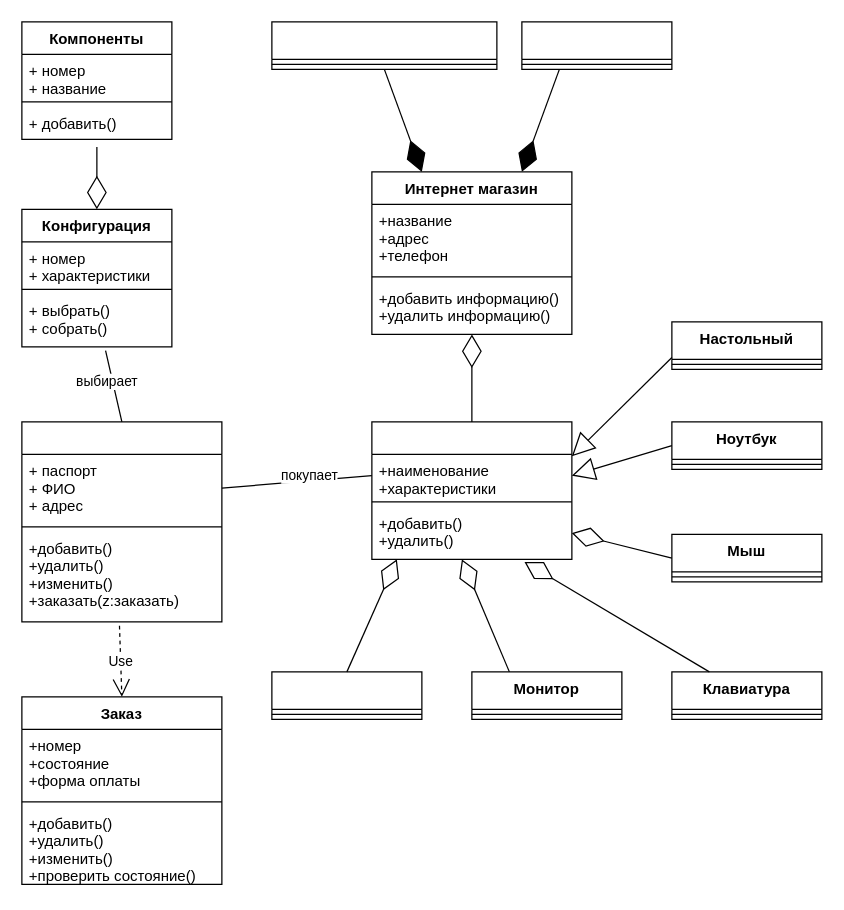
Image size: 844x910. Some labels were removed from this diagram. Each missing label, with the box of its shape:
WEB- страница: (521, 21, 672, 69)
Информационная система: (271, 21, 497, 69)
Компьютер: (371, 421, 572, 559)
Покупатель: (21, 421, 222, 622)
Системный блок: (271, 671, 422, 719)
